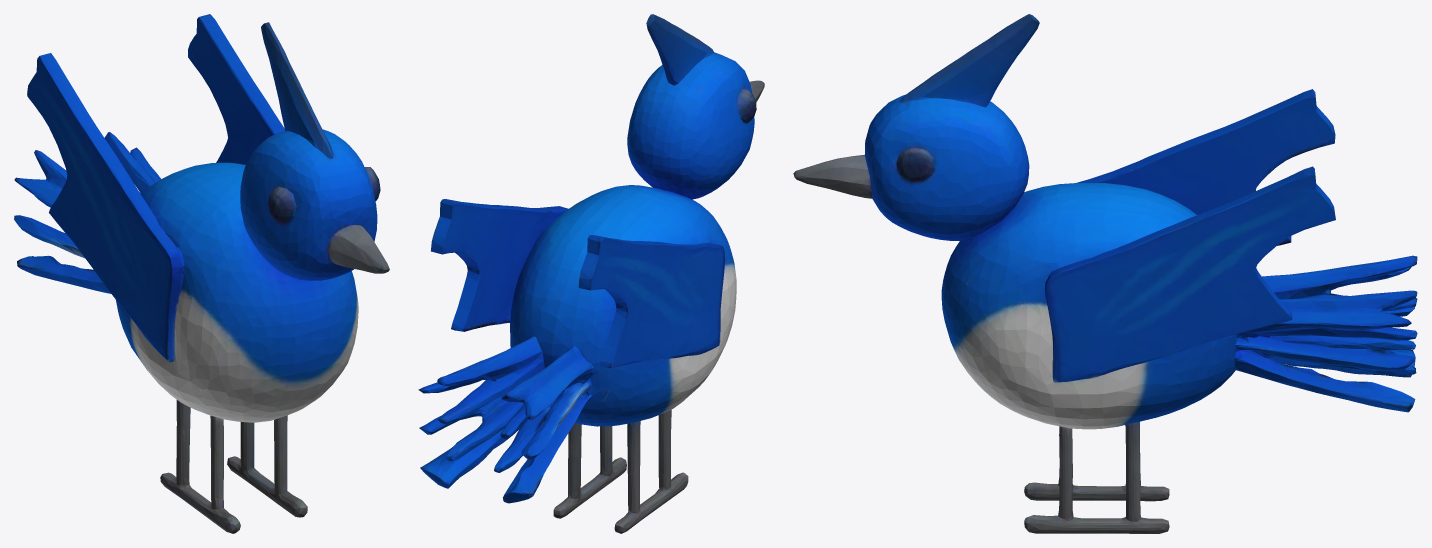
File: 040-icicrow.glb
3 renders of one model, left to right at view 1: azimuth 30°, elevation 25°; view 2: azimuth 150°, elevation 25°; view 3: azimuth 270°, elevation 25°, orthographic. The views are drawn at different scales.
Parts seen in each view (by area): view 1: geometry_0; view 2: geometry_0; view 3: geometry_0.
Part boxes in pixels (left/top/right/bottom): geometry_0: left=14, top=14, right=389, bottom=533; geometry_0: left=418, top=14, right=764, bottom=533; geometry_0: left=793, top=14, right=1417, bottom=533.
Bounding box in the file's own units: 0.3219 × 0.8901 × 1.
1 material, 1 textured.
